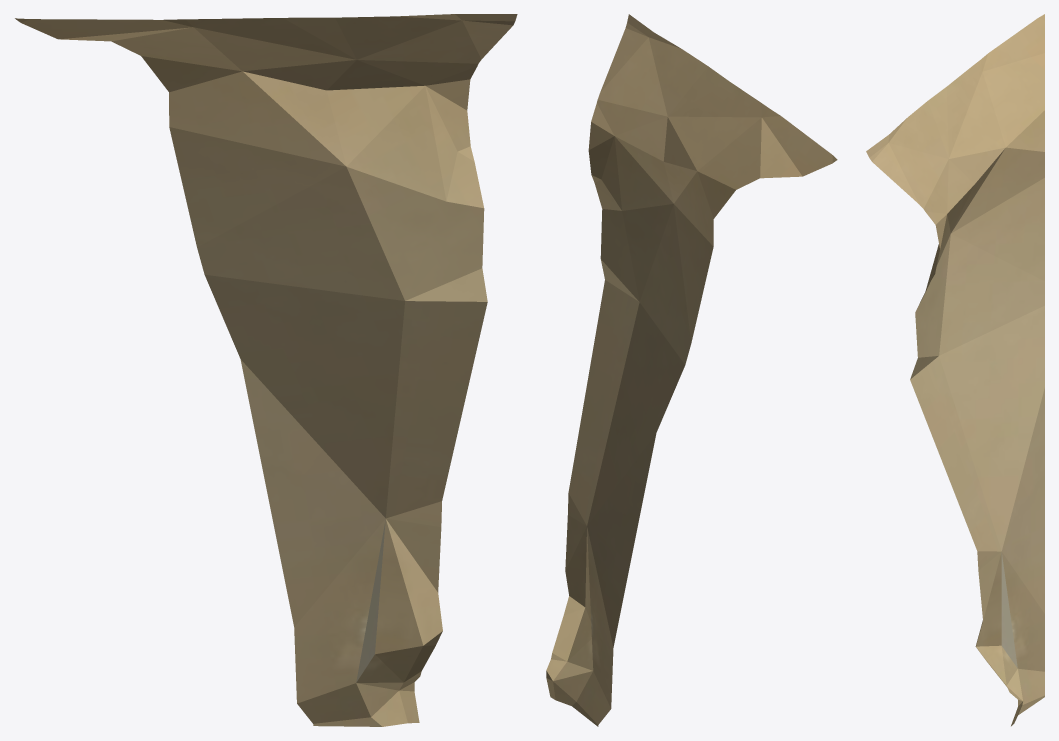
The picture shows the model from 3 angles, left to right: view 1: azimuth 30°, elevation 25°; view 2: azimuth 150°, elevation 25°; view 3: azimuth 270°, elevation 25°; orthographic projection. The views are drawn at different scales.
Size of the model in its own units: 0.4286 by 0.8374 by 0.2359.
Materials: 1 (1 with a texture image).
